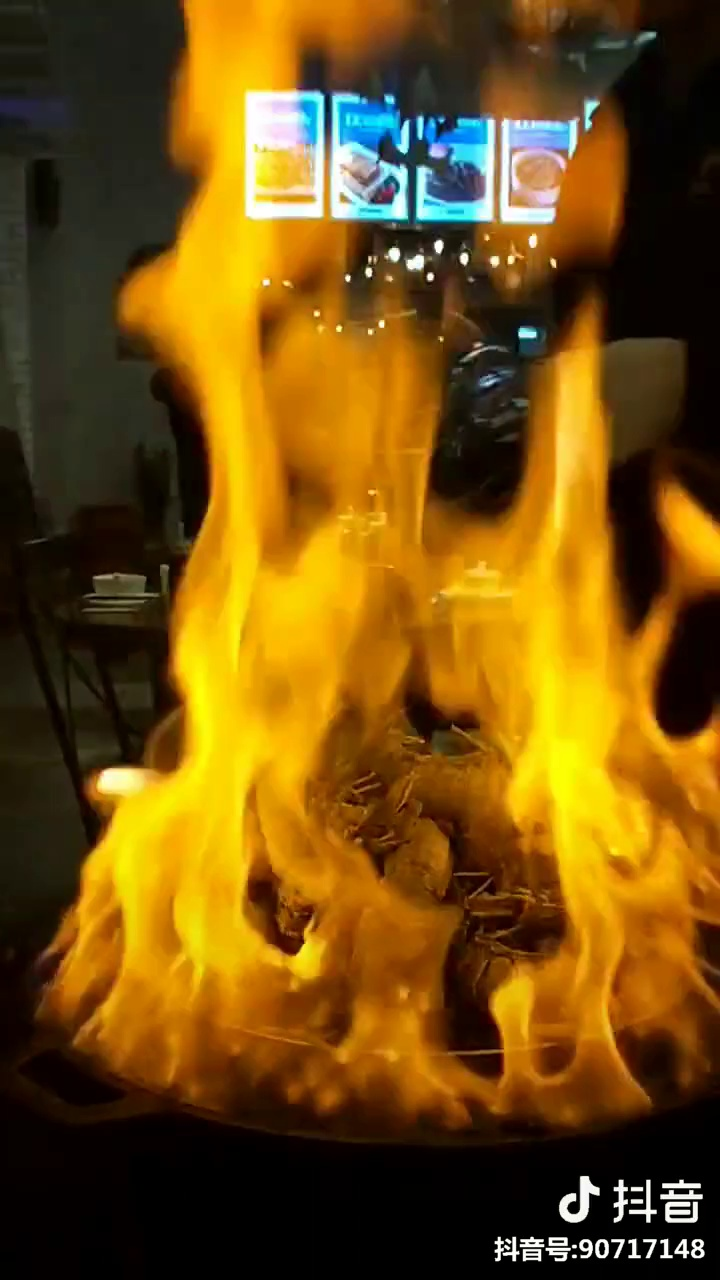fire: (129, 190, 662, 1014)
